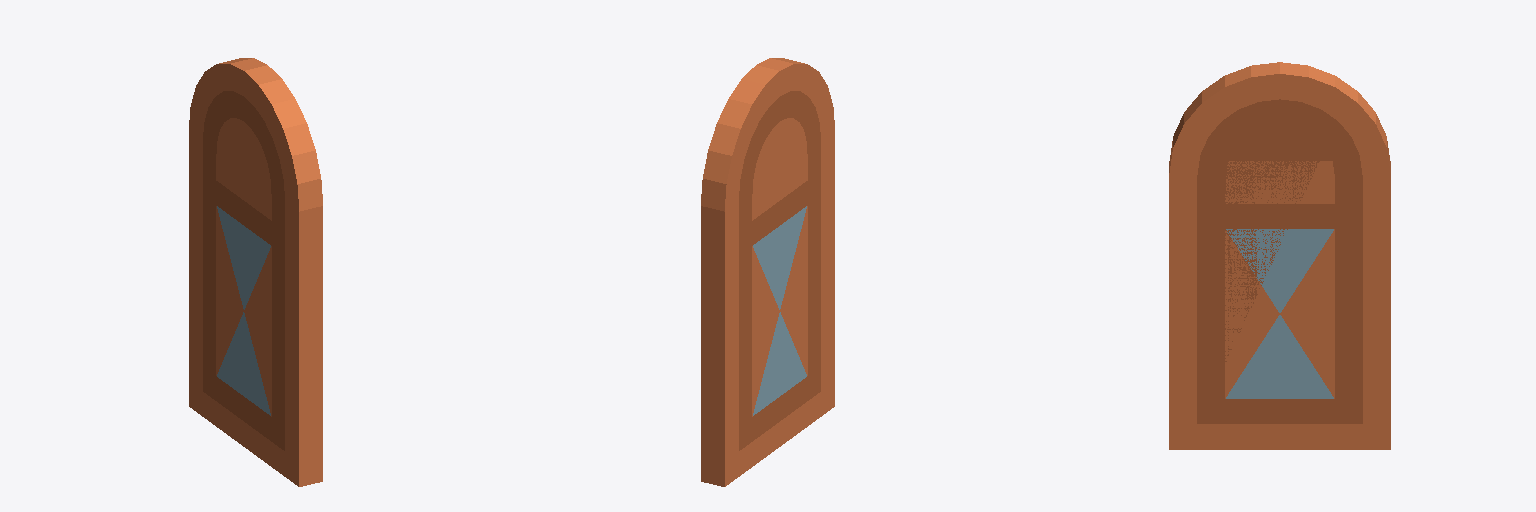
The model's file is Door.obj.
The picture shows the model from 3 angles: view 1: azimuth 30°, elevation 25°; view 2: azimuth 150°, elevation 25°; view 3: azimuth 270°, elevation 25°; orthographic projection.
Parts seen in each view (by area): view 1: wallDoor; view 2: wallDoor; view 3: wallDoor.
Boxes of the visible parts, <box> form: wallDoor: <box>189,58,322,486</box>; wallDoor: <box>701,58,834,486</box>; wallDoor: <box>1169,62,1390,449</box>.
Size of the model in its own units: 0.05 by 0.75 by 0.4.